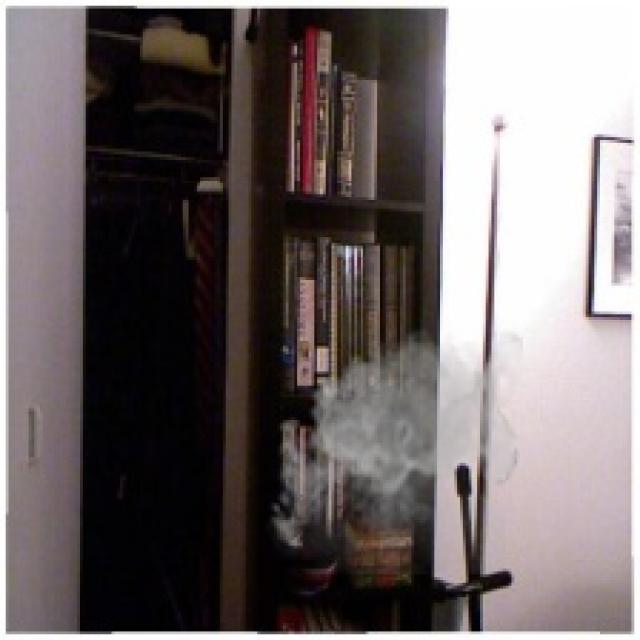Smoke: (263, 320, 523, 574)
